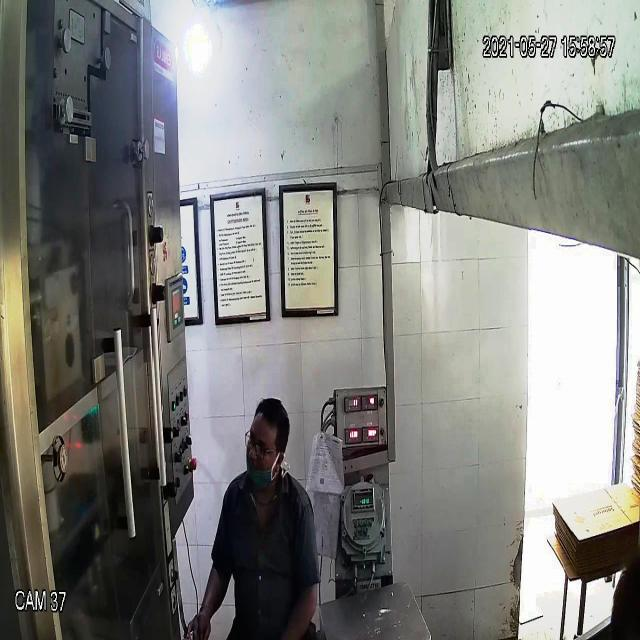glasses: (237, 422, 289, 462)
